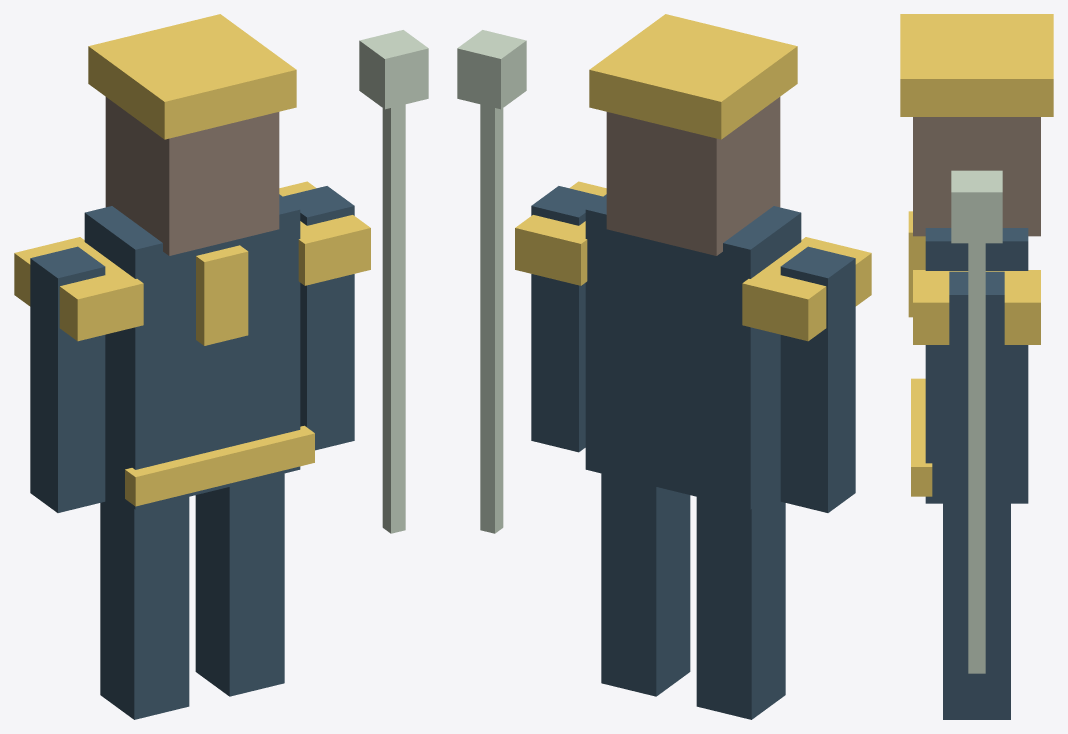
Rendered from 13_ilyra_whispercoil_operator_from_data.glb.
3 views of the same model, side by side, from view 1: azimuth 30°, elevation 25°; view 2: azimuth 150°, elevation 25°; view 3: azimuth 270°, elevation 25° (orthographic).
Visible parts, largest first — view 1: Ilyra Whispercoil, Operator from Data; view 2: Ilyra Whispercoil, Operator from Data; view 3: Ilyra Whispercoil, Operator from Data.
Boxes of the visible parts, bbox=[...] form: Ilyra Whispercoil, Operator from Data: bbox=[14, 14, 428, 719]; Ilyra Whispercoil, Operator from Data: bbox=[457, 14, 871, 719]; Ilyra Whispercoil, Operator from Data: bbox=[900, 14, 1053, 719].
Bounding box in the file's own units: 0.9899 × 1.61 × 0.3511.
